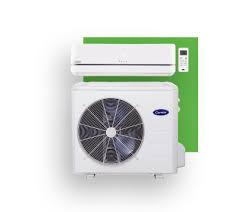ac: (70, 41, 177, 81)
